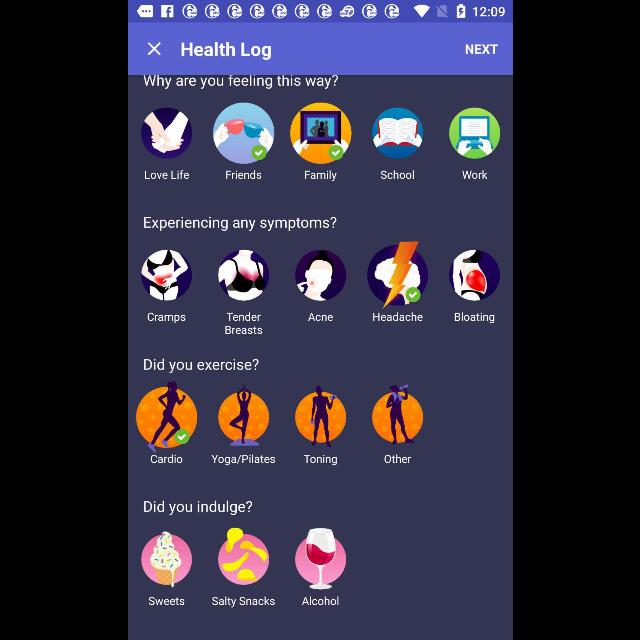icon: (147, 42, 161, 56)
image: (135, 382, 197, 452), (366, 242, 428, 308), (289, 102, 351, 164), (212, 103, 274, 165), (294, 384, 346, 448), (217, 382, 269, 446), (294, 528, 346, 590), (371, 384, 423, 446), (217, 528, 269, 586), (140, 530, 192, 588), (448, 250, 500, 302), (294, 249, 346, 301), (217, 250, 269, 302), (140, 249, 192, 301), (448, 107, 500, 159), (371, 108, 423, 160), (140, 107, 192, 159)
text: (144, 216, 336, 232), (142, 75, 338, 89), (144, 358, 258, 374), (142, 500, 252, 516), (180, 41, 270, 60), (224, 312, 262, 334), (211, 454, 275, 466), (212, 596, 274, 608), (372, 312, 422, 322), (454, 312, 494, 324), (147, 312, 186, 324), (144, 170, 188, 180), (303, 454, 337, 466), (304, 170, 336, 182), (148, 596, 185, 606), (302, 596, 338, 606), (225, 170, 261, 180), (380, 170, 414, 180), (464, 44, 498, 54), (150, 454, 182, 464), (384, 454, 411, 464), (307, 312, 333, 322), (461, 170, 487, 180)
toolbar: (128, 24, 512, 74)
uppertaskbar: (128, 1, 512, 23)
